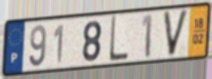1: (141, 12, 154, 59), (53, 23, 64, 65)
8: (82, 19, 103, 62)
9: (28, 23, 48, 69)
L: (107, 15, 129, 64)
V: (161, 8, 190, 59)
